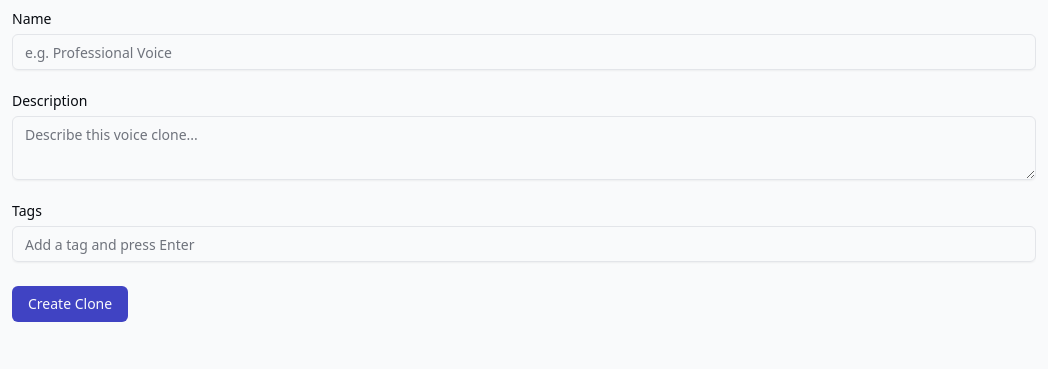
Test case: CloneForm › removes a tag when clicking its remove button
Step 1. Type "formal" into the field with placeholder "Add a tag and press Enter" → (524, 244), box [12,226,1036,262]
Then press Enter
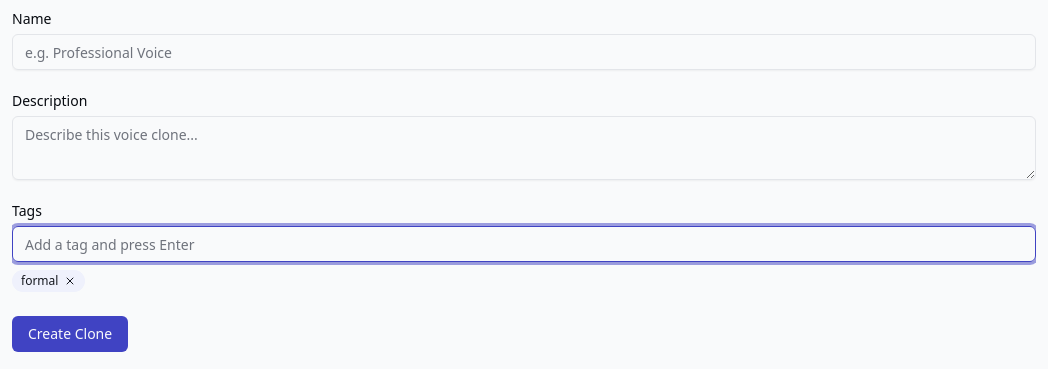
Result: the text "formal" is shown at [12,270,85,292]
Step 2. Click the button named "remove formal" → (70, 281), box [64,275,76,287]
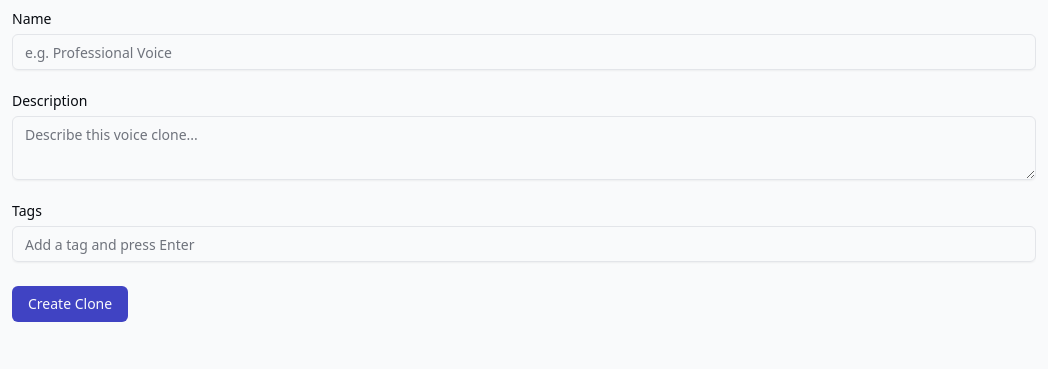
Result: the text "formal" is gone
